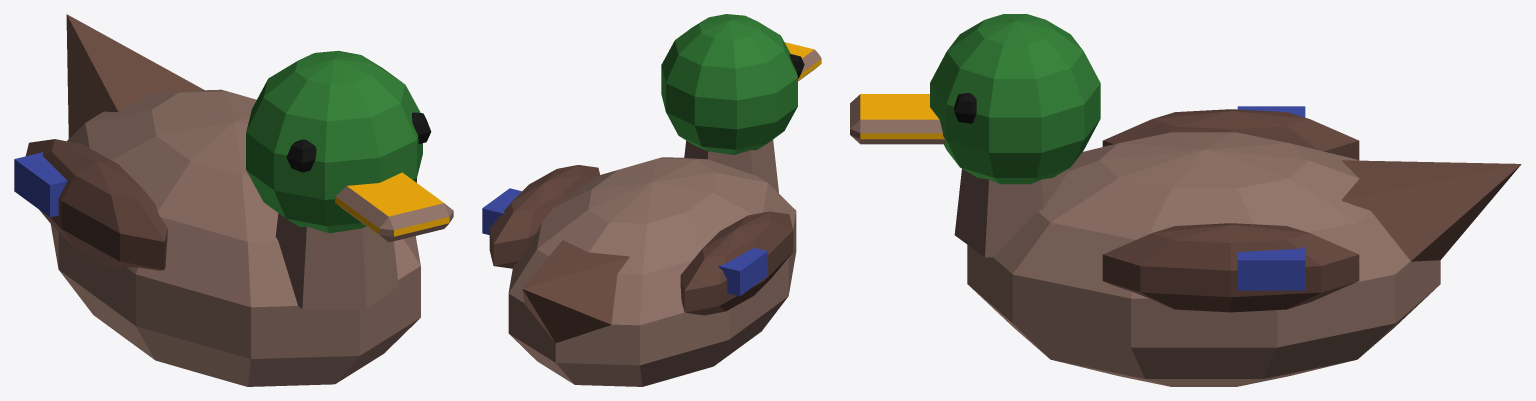
Rendered from wildente.glb.
The picture shows the model from 3 angles, left to right: view 1: azimuth 30°, elevation 25°; view 2: azimuth 150°, elevation 25°; view 3: azimuth 270°, elevation 25°; orthographic projection. The views are drawn at different scales.
Visible parts, largest first — view 1: body-m, head-m; view 2: body-m, head-m; view 3: body-m, head-m.
Part boxes in pixels (bbox=[...]): body-m: bbox=[14, 14, 420, 386]; head-m: bbox=[246, 50, 453, 308]; body-m: bbox=[482, 157, 796, 386]; head-m: bbox=[661, 14, 821, 193]; body-m: bbox=[967, 106, 1521, 386]; head-m: bbox=[850, 14, 1100, 257].
Size of the model in its own units: 0.54 by 0.57 by 0.9964.
